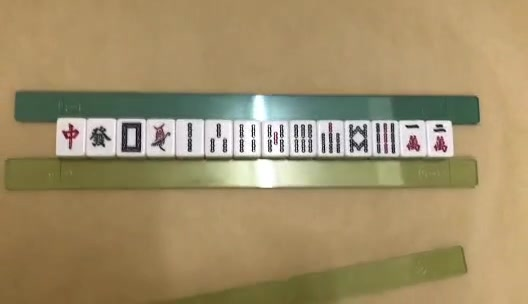1m: (404, 124, 421, 152)
1s: (152, 125, 171, 151)
2m: (431, 123, 448, 153)
2s: (186, 121, 195, 151)
3s: (209, 123, 230, 153)
4s: (239, 125, 258, 152)
5s: (267, 125, 285, 152)
5z: (121, 121, 143, 154)
6s: (292, 124, 314, 154)
6z: (90, 128, 110, 146)
7s: (321, 121, 341, 155)
7z: (64, 124, 79, 148)
8s: (349, 124, 369, 153)
9s: (376, 123, 397, 155)
